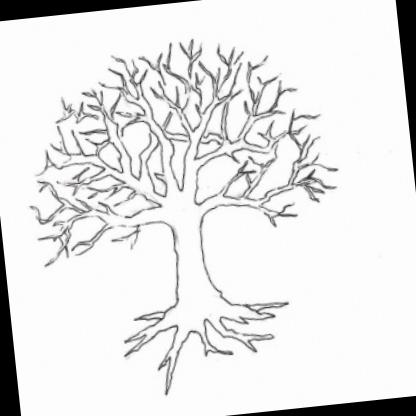branch_sharp: (12, 24, 346, 266)
root_only: (119, 294, 298, 399)
trunk_straight: (167, 226, 226, 304)
